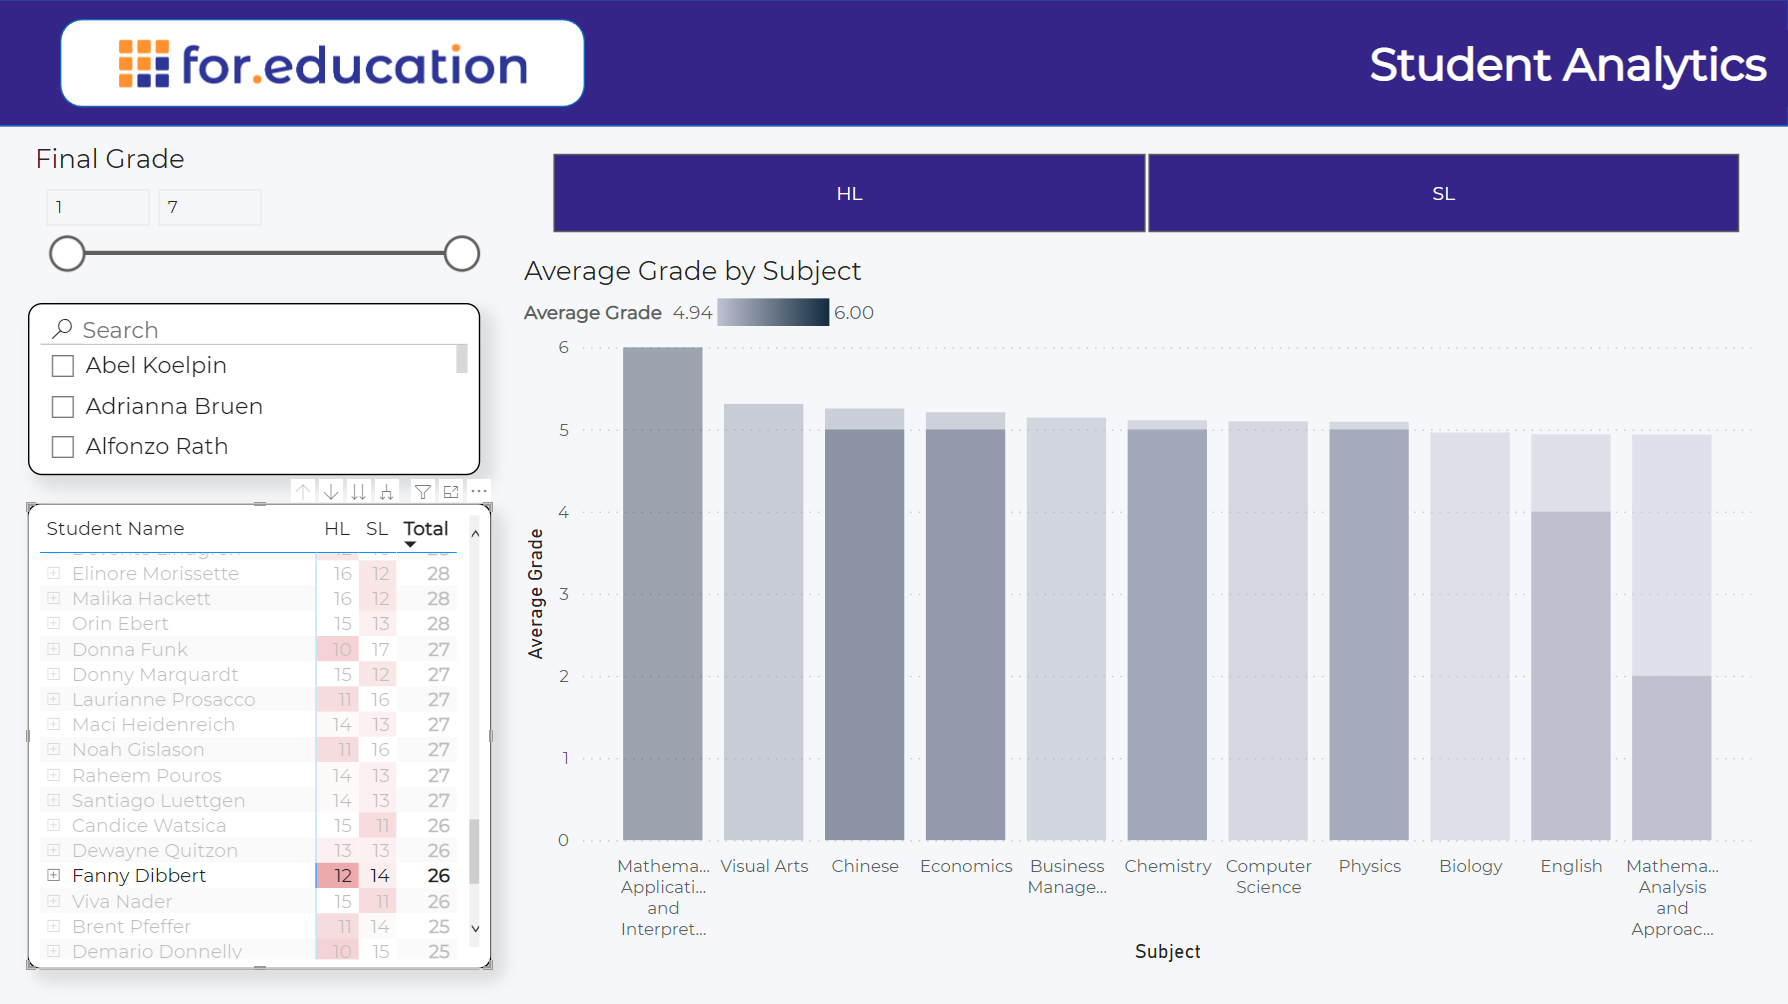

The dashboard page shown, as its layout file describes it:
{"tool":"powerbi","page":{"name":"Student View","canvas":[1280,720],"ordinal":2},"visuals":[{"type":"shape","box":[0,0,1280,90.9],"z":0},{"type":"shape","box":[44.9,14,375.4,62.9],"z":1000},{"type":"image","box":[81.9,22,300.5,46.9],"z":2000},{"type":"textbox","box":[975.5,21.8,304.5,55.2],"z":3000},{"type":"pivotTable","fields":{"Rows":["diploma_term_grades.full_student_name","diploma_term_grades.class_name"],"Columns":["diploma_term_grades.level"],"Values":["Sum(diploma_term_grades.correct_final_grade)"]},"box":[21.8,359.6,322.9,333.2],"z":4000},{"type":"slicer","title":"Final Grade","fields":{"Values":["diploma_term_grades.correct_final_grade"]},"box":[22,102.8,331.5,113.8],"z":5000},{"type":"slicer","fields":{"Values":["diploma_term_grades.full_student_name"]},"box":[21.8,217.2,322.9,122.9],"z":6000},{"type":"clusteredColumnChart","fields":{"Y":["Avg(diploma_term_grades.correct_final_grade)"],"Category":["diploma_term_grades.subject"]},"box":[371.1,182.7,888.2,510.2],"z":7000},{"type":"slicer","fields":{"Values":["diploma_term_grades.level"]},"box":[371.1,103.4,897.4,70.1],"z":8000}]}

Visuals, with their boxes in screenshot pixels (x1, y1, x2, y2), scaled from the page's 1280x720 canvas onto the 1788x1004 screenshot:
shape: select_region(0, 0, 1787, 127)
shape: select_region(63, 20, 587, 107)
image: select_region(114, 31, 534, 96)
textbox: select_region(1363, 30, 1787, 107)
pivotTable - diploma_term_grades.full_student_name x diploma_term_grades.class_name: select_region(30, 501, 482, 966)
"Final Grade" slicer: select_region(31, 143, 494, 302)
slicer - diploma_term_grades.full_student_name: select_region(30, 303, 482, 474)
clusteredColumnChart - Avg(diploma_term_grades.correct_final_grade) x diploma_term_grades.subject: select_region(518, 255, 1759, 966)
slicer - diploma_term_grades.level: select_region(518, 144, 1772, 242)
